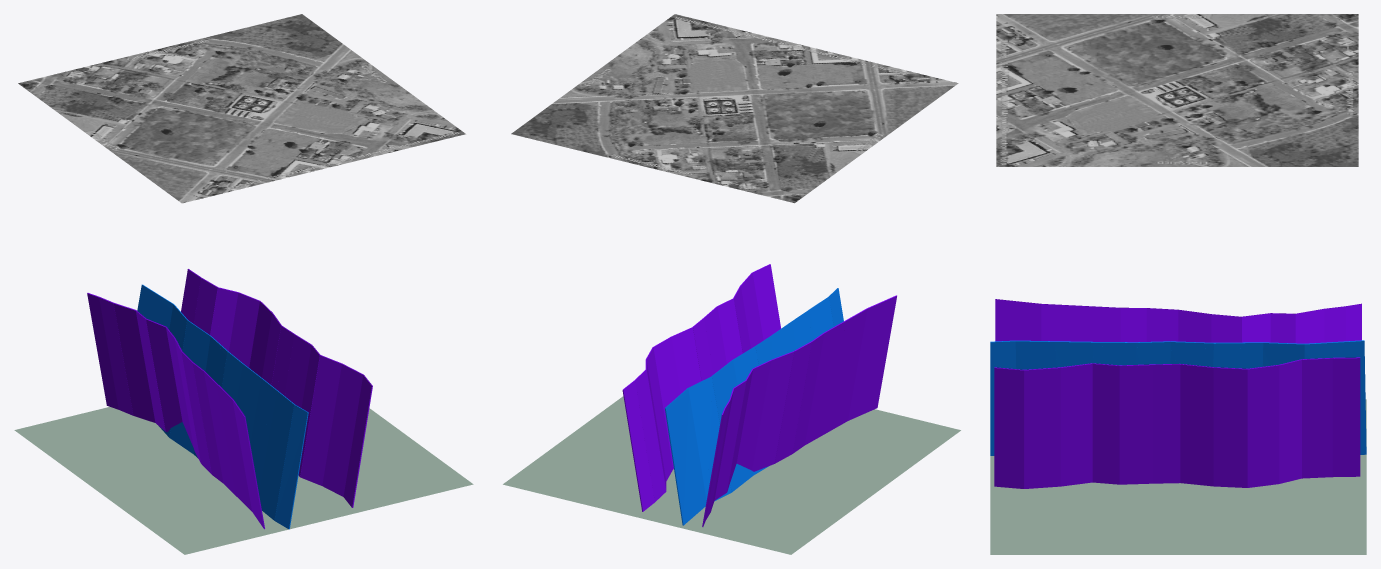
3 renders of one model, left to right at view 1: azimuth 30°, elevation 25°; view 2: azimuth 150°, elevation 25°; view 3: azimuth 270°, elevation 25°, orthographic. The views are drawn at different scales.
Visible parts, largest first — view 1: Tri, Tri Strip; view 2: Tri, Tri Strip; view 3: Tri, Tri Strip.
Boxes of the visible parts, bbox=[...] form: Tri: bbox=[18, 14, 465, 529]; Tri Strip: bbox=[14, 407, 473, 554]; Tri: bbox=[511, 14, 958, 526]; Tri Strip: bbox=[503, 396, 960, 554]; Tri: bbox=[990, 14, 1366, 488]; Tri Strip: bbox=[990, 399, 1366, 554].
Bounding box in the file's own units: 305 × 352 × 312.
2 materials, 1 textured.
